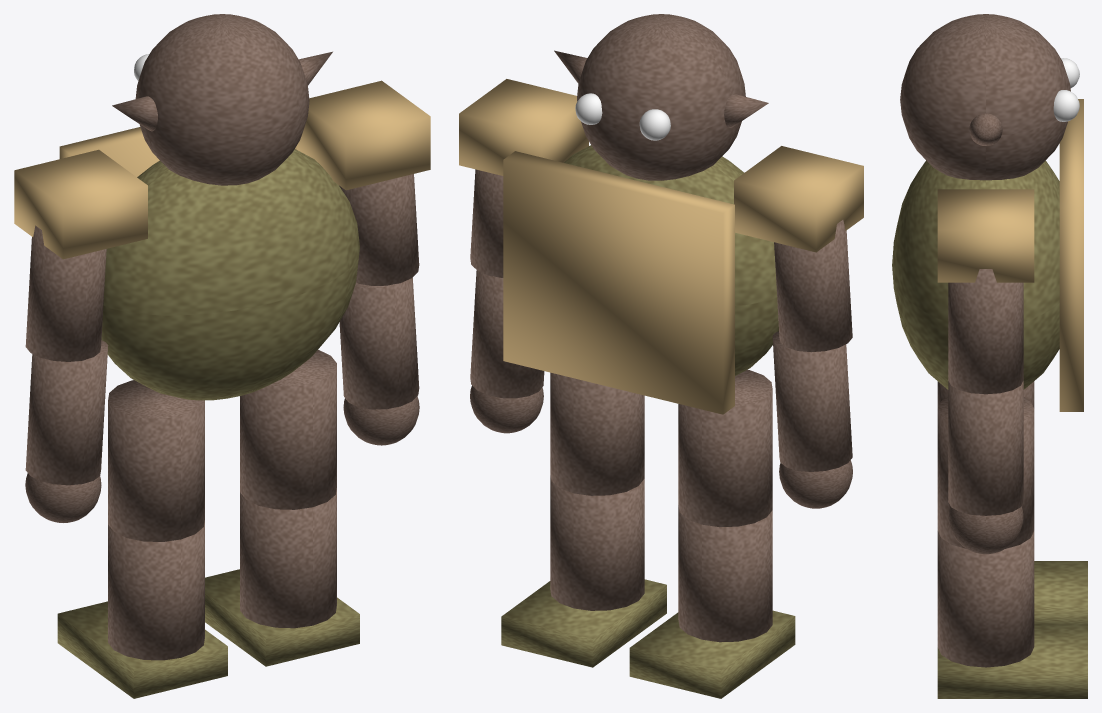
File: alfar-raider.glb
3 renders of one model, left to right at view 1: azimuth 30°, elevation 25°; view 2: azimuth 150°, elevation 25°; view 3: azimuth 270°, elevation 25°, orthographic. The views are drawn at different scales.
Visible parts, largest first — view 1: Torso, Head, ThighL, ThighR, ShinR, ShinL, Pauldron, Pauldron.001, ForearmL, ForearmR, UpperArmL, FootL (+6 smaller); view 2: Chestplate, Head, ThighL, ShinR, ShinL, Pauldron, ThighR, ForearmL, Pauldron.001, FootL, FootR, Torso (+8 smaller); view 3: Head, Torso, ShinR, ForearmR, Pauldron.001, UpperArmR, FootR, Chestplate, ThighR, FootL, HandR, Ear.001 (+3 smaller).
Boxes of the visible parts, box(x1,y1,x2,y2) form: Torso: box(101, 149, 359, 400); Head: box(135, 14, 309, 185); ThighL: box(108, 380, 204, 541); ThighR: box(240, 349, 336, 509); ShinR: box(240, 488, 336, 628); ShinL: box(108, 520, 204, 660); Pauldron: box(14, 149, 147, 259); Pauldron.001: box(297, 80, 430, 190); ForearmL: box(25, 340, 108, 485); ForearmR: box(339, 277, 419, 409); UpperArmL: box(25, 225, 106, 361); FootL: box(57, 601, 227, 698); Chestplate: box(503, 151, 734, 414); Head: box(577, 14, 745, 180); ThighL: box(678, 369, 772, 527); ShinR: box(550, 475, 644, 610); ShinL: box(678, 505, 772, 642); Pauldron: box(734, 146, 863, 252); ThighR: box(550, 372, 644, 495); ForearmL: box(772, 331, 852, 471); Pauldron.001: box(459, 79, 588, 175); FootL: box(629, 610, 795, 698); FootR: box(501, 579, 666, 667); Torso: box(564, 145, 778, 375); Head: box(900, 14, 1070, 180); Torso: box(892, 160, 1059, 389); ShinR: box(937, 531, 1034, 667); ForearmR: box(948, 381, 1023, 515); Pauldron.001: box(937, 189, 1034, 282); UpperArmR: box(948, 269, 1023, 394); FootR: box(937, 624, 1087, 698); Chestplate: box(1059, 99, 1083, 411); ThighR: box(937, 397, 1034, 548); FootL: box(1034, 561, 1087, 624); HandR: box(948, 506, 1023, 554); Ear.001: box(969, 113, 1002, 145).
Bounding box in the file's own units: 0.6367 × 1 × 0.2852.
4 materials, 2 textured.
